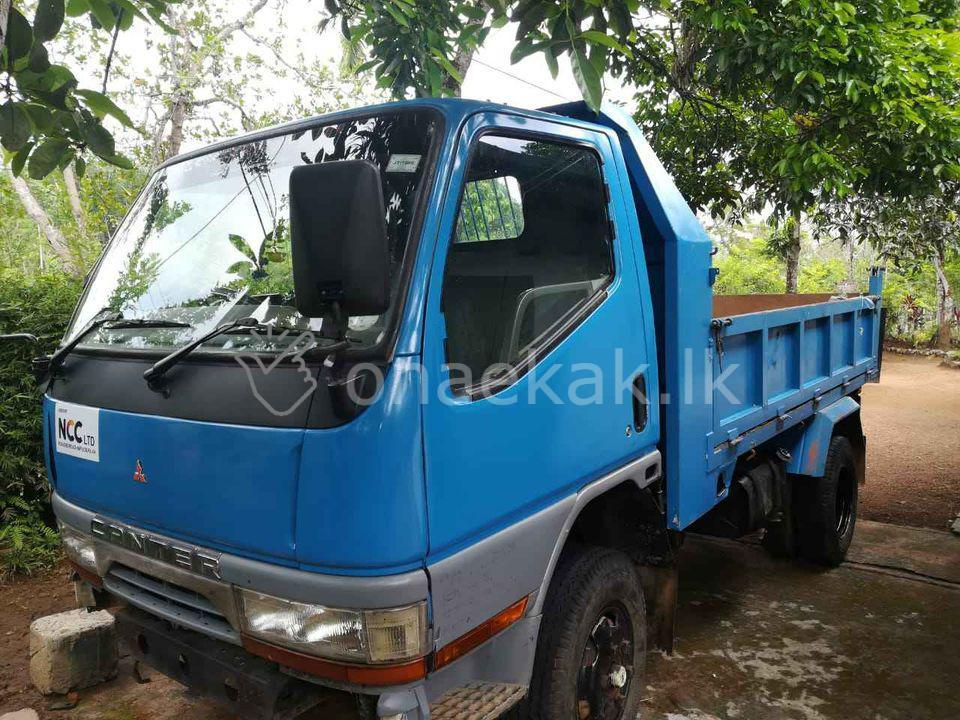truck: (43, 99, 887, 720)
